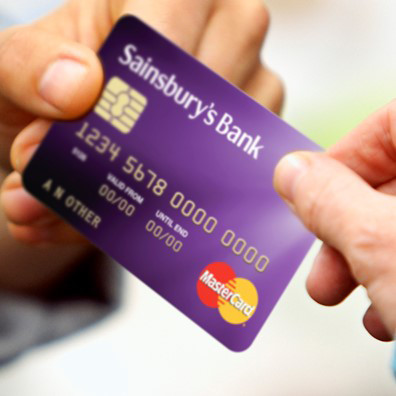tarjeta: (21, 12, 337, 353)
